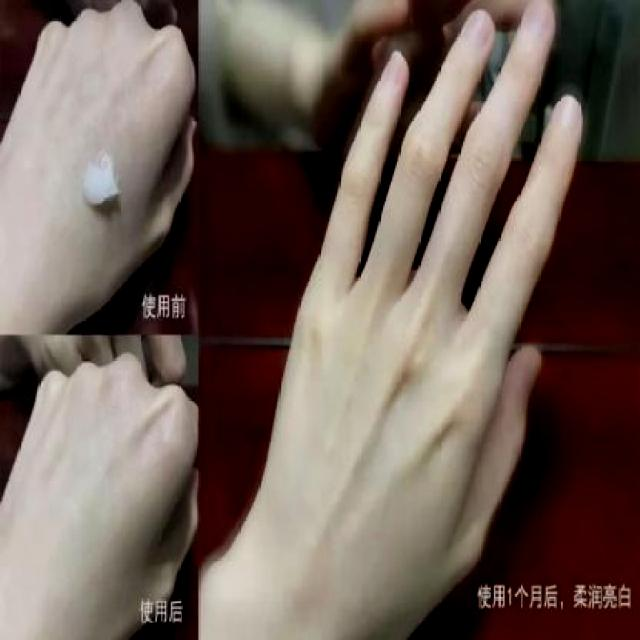hand_noglove: (250, 1, 584, 590), (0, 0, 197, 329), (13, 350, 198, 639)
